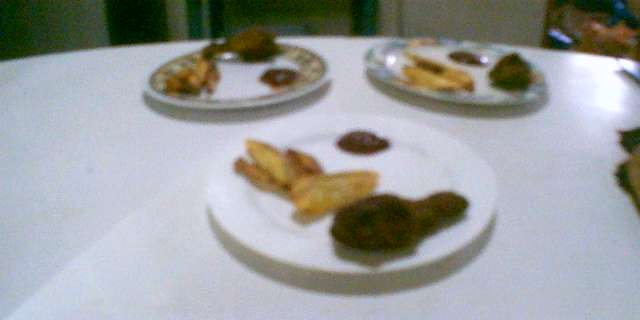chicken: (327, 188, 472, 253), (196, 23, 279, 65), (490, 50, 534, 94)
ketchup_portion: (333, 123, 391, 157), (446, 40, 488, 75), (258, 64, 301, 92)
potatoe_fries: (234, 137, 380, 227), (392, 49, 478, 100), (167, 51, 222, 101)
